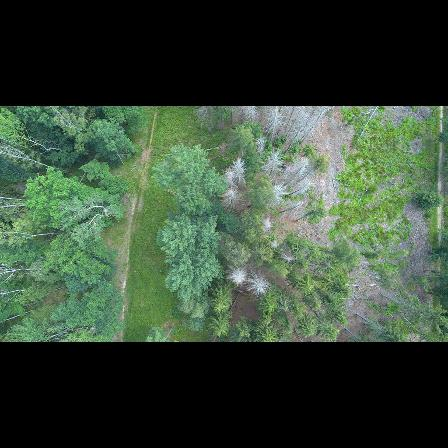Dead: (298, 111, 327, 144), (246, 272, 270, 301), (285, 180, 315, 196), (266, 152, 285, 175), (228, 268, 248, 288), (234, 157, 248, 185), (225, 189, 242, 211), (277, 202, 305, 215), (265, 110, 276, 143), (284, 119, 300, 141), (299, 111, 315, 133), (290, 158, 307, 178), (280, 109, 296, 130), (225, 167, 236, 190), (267, 235, 282, 249), (262, 217, 275, 231), (248, 108, 259, 123), (281, 253, 294, 263)
